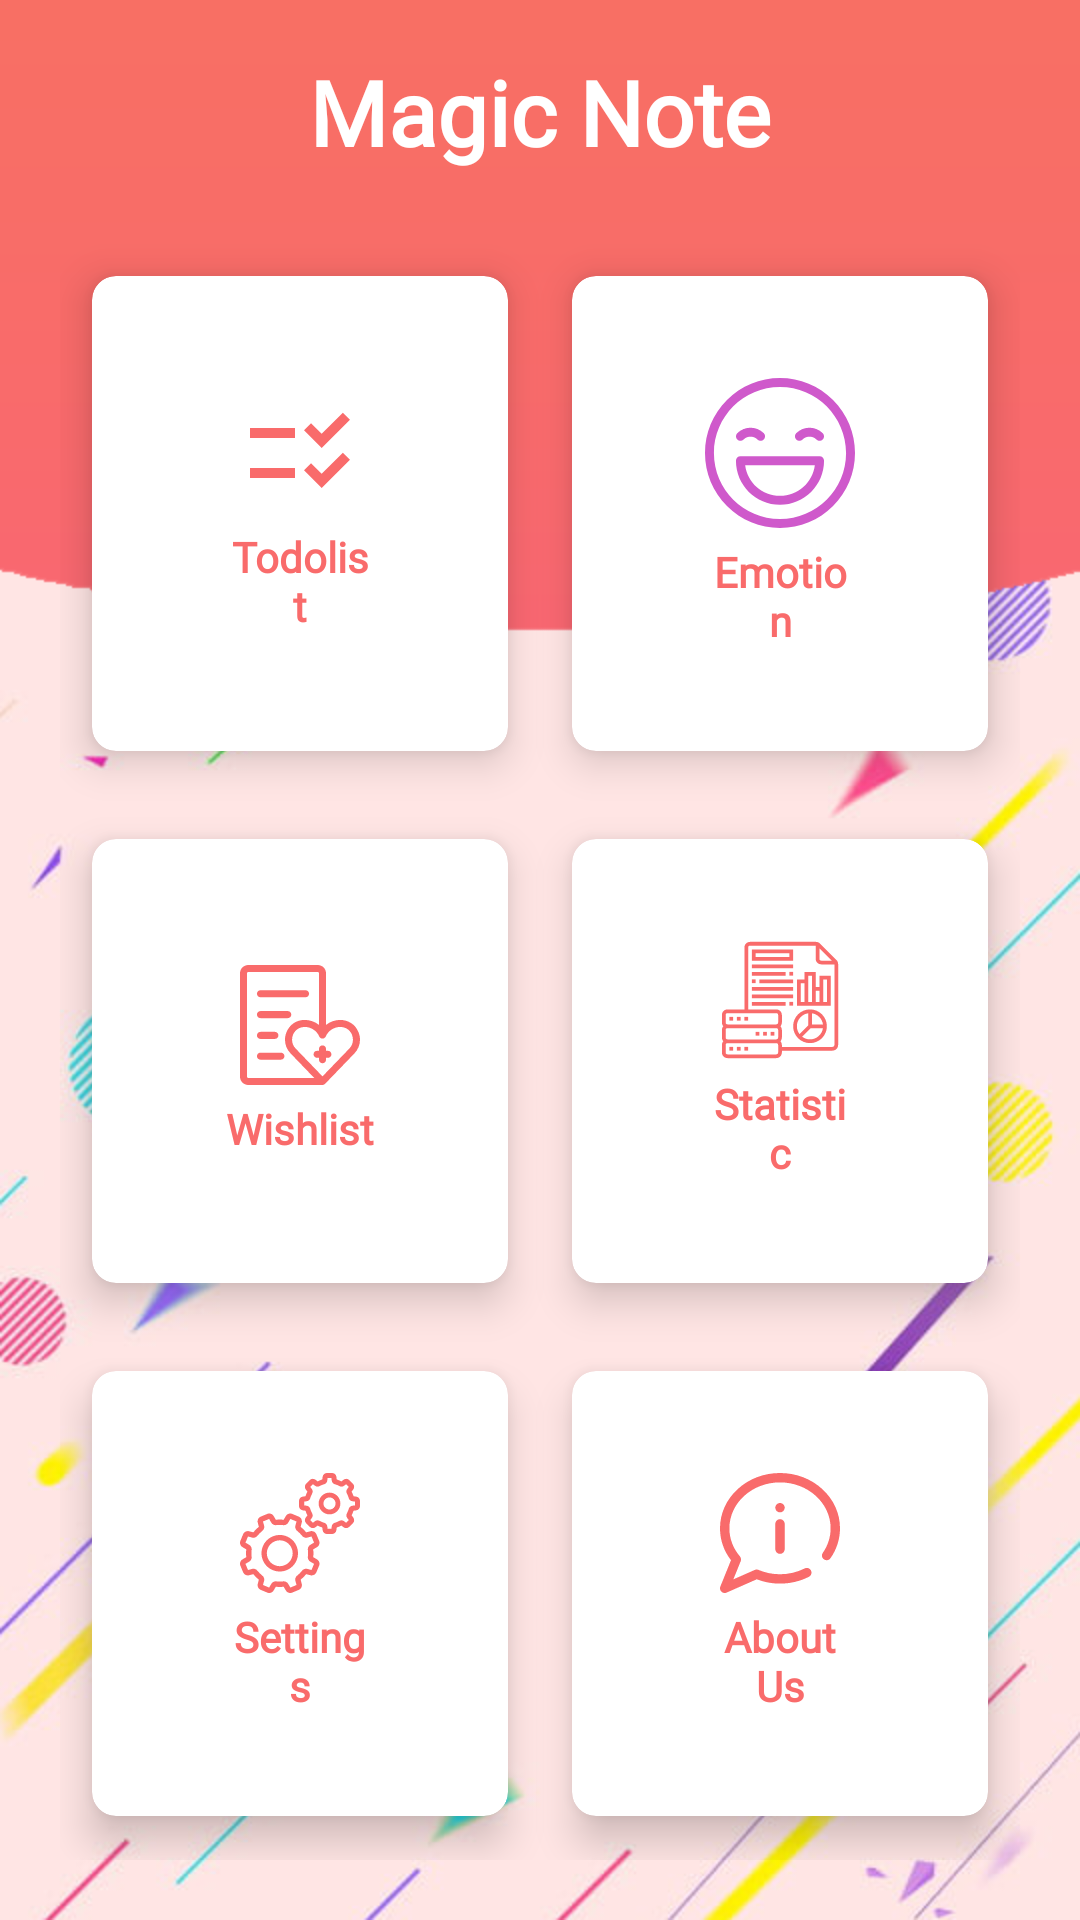

Icon bounding boxes for this 1080px×1920px phone screenshot, format detection(x1, y1, x2, y2):
happy: detection(705, 378, 855, 528)
